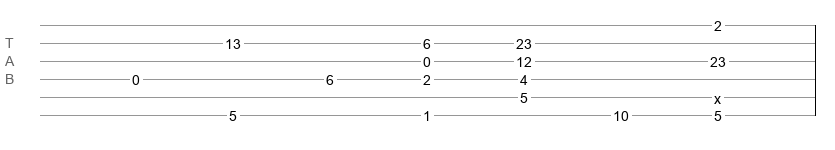0: (132, 72, 140, 82), (423, 54, 431, 64)
1: (423, 108, 431, 118)
10: (613, 108, 629, 118)
12: (516, 54, 532, 64)
13: (225, 36, 241, 46)
2: (423, 72, 431, 82), (714, 18, 722, 28)
23: (516, 36, 532, 46), (710, 54, 726, 64)
4: (520, 72, 528, 82)
5: (229, 108, 237, 118), (520, 90, 528, 100), (714, 108, 722, 118)
6: (326, 72, 334, 82), (423, 36, 431, 46)
x: (714, 91, 721, 99)
